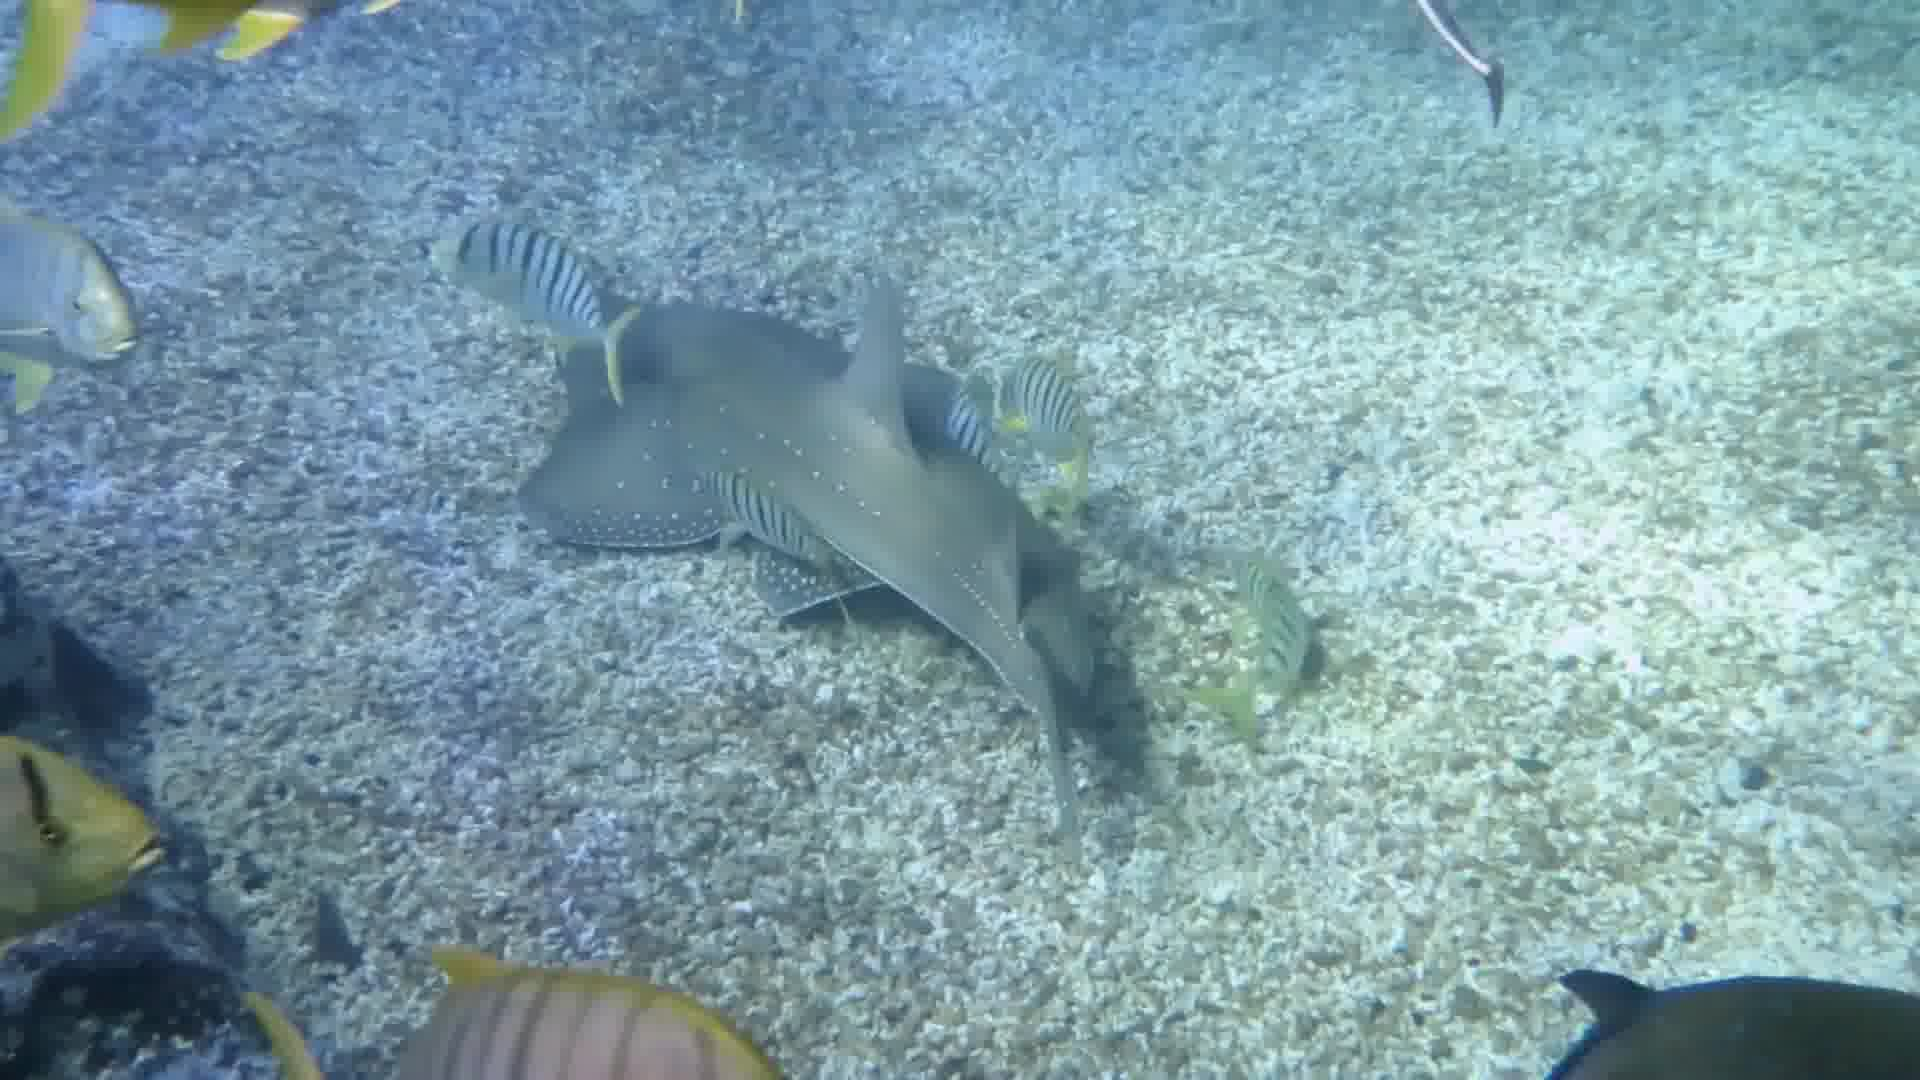Rhychobatus djiddensis: (405, 223, 1288, 849)
